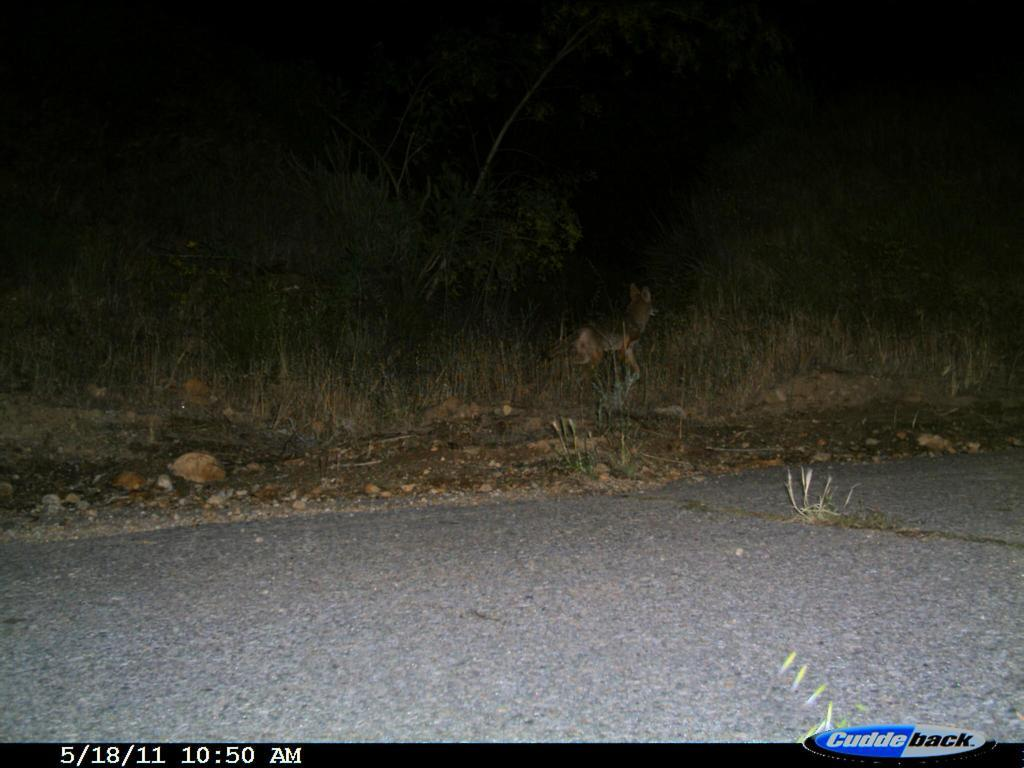coyote: (541, 278, 657, 390)
